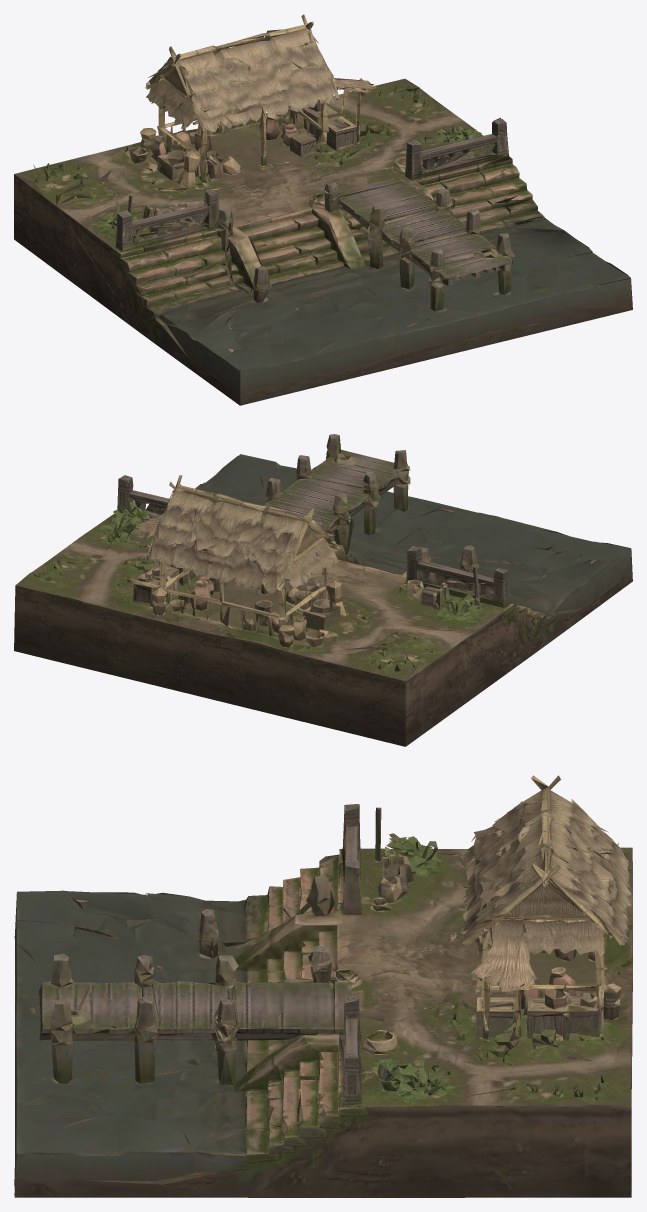
File: port.glb
The picture shows the model from 3 angles, top to bottom: view 1: azimuth 30°, elevation 25°; view 2: azimuth 150°, elevation 25°; view 3: azimuth 270°, elevation 25°; orthographic projection. The views are drawn at different scales.
Visible parts, largest first — view 1: output_unwrapped; view 2: output_unwrapped; view 3: output_unwrapped.
Part boxes in pixels (x1,y1,x2,y2): output_unwrapped: (14,14,632,405); output_unwrapped: (14,434,632,746); output_unwrapped: (14,775,632,1197).
Bounding box in the file's own units: 14.01 × 6.18 × 14.
Materials: 1 (1 with a texture image).
